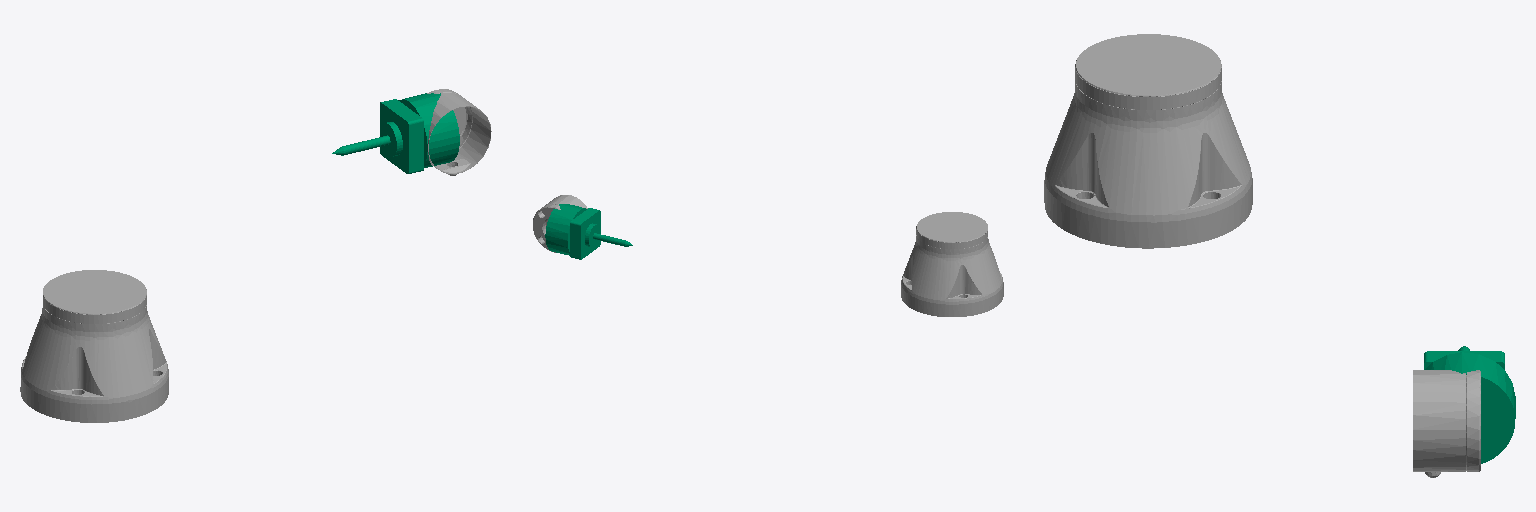
The robot description file, URDF, robot "ur3_with_measurement_tool":
<?xml version="1.0" ?>
<!-- =================================================================================== -->
<!-- |    This document was autogenerated by xacro from ur3_with_measurement_tool.xacro | -->
<!-- |    EDITING THIS FILE BY HAND IS NOT RECOMMENDED                                 | -->
<!-- =================================================================================== -->
<robot name="ur3_with_measurement_tool" xmlns:xacro="http://wiki.ros.org/xacro">
  <!--
  Author: [author]
-->
  <!-- measured from model -->
  <link name="base_link">
    <visual>
      <geometry>
        <mesh filename="package://ur_description/meshes/ur3/visual/base.obj"/>
      </geometry>
      <material name="LightGrey">
        <color rgba="0.7 0.7 0.7 1.0"/>
      </material>
    </visual>
    <collision>
      <geometry>
        <mesh filename="package://ur_description/meshes/ur3/collision/base.stl"/>
      </geometry>
    </collision>
    <inertial>
      <mass value="2.0"/>
      <origin rpy="0 0 0" xyz="0.0 0.0 0.0"/>
      <inertia ixx="0.0030531654454" ixy="0.0" ixz="0.0" iyy="0.0030531654454" iyz="0.0" izz="0.005625"/>
    </inertial>
  </link>
  <joint name="shoulder_pan_joint" type="revolute">
    <parent link="base_link"/>
    <child link="shoulder_link"/>
    <origin rpy="0.0 0.0 0.0" xyz="0.0 0.0 0.1519"/>
    <axis xyz="0 0 1"/>
    <limit effort="330.0" lower="-3.14159265359" upper="3.14159265359" velocity="2.16"/>
    <dynamics damping="0.0" friction="0.0"/>
  </joint>
  <link name="shoulder_link">
    <visual>
      <geometry>
        <mesh filename="package://ur_description/meshes/ur3/visual/shoulder.obj"/>
      </geometry>
      <material name="LightGrey">
        <color rgba="0.7 0.7 0.7 1.0"/>
      </material>
    </visual>
    <collision>
      <geometry>
        <mesh filename="package://ur_description/meshes/ur3/collision/shoulder.stl"/>
      </geometry>
    </collision>
    <inertial>
      <mass value="2.0"/>
      <origin rpy="0 0 0" xyz="0.0 0.0 0.0"/>
      <inertia ixx="0.0080931634294" ixy="0.0" ixz="0.0" iyy="0.0080931634294" iyz="0.0" izz="0.005625"/>
    </inertial>
  </link>
  <joint name="shoulder_lift_joint" type="revolute">
    <parent link="shoulder_link"/>
    <child link="upper_arm_link"/>
    <origin rpy="0.0 1.57079632679 0.0" xyz="0.0 0.1198 0.0"/>
    <axis xyz="0 1 0"/>
    <limit effort="330.0" lower="-3.14159265359" upper="3.14159265359" velocity="2.16"/>
    <dynamics damping="0.0" friction="0.0"/>
  </joint>
  <link name="upper_arm_link">
    <visual>
      <geometry>
        <mesh filename="package://ur_description/meshes/ur3/visual/upperarm.obj"/>
      </geometry>
      <material name="LightGrey">
        <color rgba="0.7 0.7 0.7 1.0"/>
      </material>
    </visual>
    <collision>
      <geometry>
        <mesh filename="package://ur_description/meshes/ur3/collision/upperarm.stl"/>
      </geometry>
    </collision>
    <inertial>
      <mass value="3.42"/>
      <origin rpy="0 0 0" xyz="0.0 0.0 0.121825"/>
      <inertia ixx="0.0217284832211" ixy="0.0" ixz="0.0" iyy="0.0217284832211" iyz="0.0" izz="0.00961875"/>
    </inertial>
  </link>
  <joint name="elbow_joint" type="revolute">
    <parent link="upper_arm_link"/>
    <child link="forearm_link"/>
    <origin rpy="0.0 0.0 0.0" xyz="0.0 -0.0925 0.24365"/>
    <axis xyz="0 1 0"/>
    <limit effort="150.0" lower="-3.14159265359" upper="3.14159265359" velocity="3.15"/>
    <dynamics damping="0.0" friction="0.0"/>
  </joint>
  <link name="forearm_link">
    <visual>
      <geometry>
        <mesh filename="package://ur_description/meshes/ur3/visual/forearm.obj"/>
      </geometry>
      <material name="LightGrey">
        <color rgba="0.7 0.7 0.7 1.0"/>
      </material>
    </visual>
    <collision>
      <geometry>
        <mesh filename="package://ur_description/meshes/ur3/collision/forearm.stl"/>
      </geometry>
    </collision>
    <inertial>
      <mass value="1.26"/>
      <origin rpy="0 0 0" xyz="0.0 0.0 0.106625"/>
      <inertia ixx="0.00654680644378" ixy="0.0" ixz="0.0" iyy="0.00654680644378" iyz="0.0" izz="0.00354375"/>
    </inertial>
  </link>
  <joint name="wrist_1_joint" type="revolute">
    <parent link="forearm_link"/>
    <child link="wrist_1_link"/>
    <origin rpy="0.0 1.57079632679 0.0" xyz="0.0 0.0 0.21325"/>
    <axis xyz="0 1 0"/>
    <limit effort="54.0" lower="-3.14159265359" upper="3.14159265359" velocity="3.2"/>
    <dynamics damping="0.0" friction="0.0"/>
  </joint>
  <link name="wrist_1_link">
    <visual>
      <geometry>
        <mesh filename="package://ur_description/meshes/ur3/visual/wrist1.obj"/>
      </geometry>
      <material name="LightGrey">
        <color rgba="0.7 0.7 0.7 1.0"/>
      </material>
    </visual>
    <collision>
      <geometry>
        <mesh filename="package://ur_description/meshes/ur3/collision/wrist1.stl"/>
      </geometry>
    </collision>
    <inertial>
      <mass value="0.8"/>
      <origin rpy="0 0 0" xyz="0.0 0.0 0.0"/>
      <inertia ixx="0.002084999166" ixy="0.0" ixz="0.0" iyy="0.002084999166" iyz="0.0" izz="0.00225"/>
    </inertial>
  </link>
  <joint name="wrist_2_joint" type="revolute">
    <parent link="wrist_1_link"/>
    <child link="wrist_2_link"/>
    <origin rpy="0.0 0.0 0.0" xyz="0.0 0.08505 0.0"/>
    <axis xyz="0 0 1"/>
    <limit effort="54.0" lower="-3.14159265359" upper="3.14159265359" velocity="3.2"/>
    <dynamics damping="0.0" friction="0.0"/>
  </joint>
  <link name="wrist_2_link">
    <visual>
      <geometry>
        <mesh filename="package://ur_description/meshes/ur3/visual/wrist2.obj"/>
      </geometry>
      <material name="LightGrey">
        <color rgba="0.7 0.7 0.7 1.0"/>
      </material>
    </visual>
    <collision>
      <geometry>
        <mesh filename="package://ur_description/meshes/ur3/collision/wrist2.stl"/>
      </geometry>
    </collision>
    <inertial>
      <mass value="0.8"/>
      <origin rpy="0 0 0" xyz="0.0 0.0 0.0"/>
      <inertia ixx="0.002084999166" ixy="0.0" ixz="0.0" iyy="0.002084999166" iyz="0.0" izz="0.00225"/>
    </inertial>
  </link>
  <joint name="wrist_3_joint" type="revolute">
    <parent link="wrist_2_link"/>
    <child link="wrist_3_link"/>
    <origin rpy="0.0 0.0 0.0" xyz="0.0 0.0 0.08535"/>
    <axis xyz="0 1 0"/>
    <limit effort="54.0" lower="-3.14159265359" upper="3.14159265359" velocity="3.2"/>
    <dynamics damping="0.0" friction="0.0"/>
  </joint>
  <link name="wrist_3_link">
    <visual>
      <geometry>
        <mesh filename="package://ur_description/meshes/ur3/visual/wrist3.obj"/>
      </geometry>
      <material name="LightGrey">
        <color rgba="0.7 0.7 0.7 1.0"/>
      </material>
    </visual>
    <collision>
      <geometry>
        <mesh filename="package://ur_description/meshes/ur3/collision/wrist3.stl"/>
      </geometry>
    </collision>
    <inertial>
      <mass value="0.35"/>
      <origin rpy="0 0 0" xyz="0.0 0.0 0.0"/>
      <inertia ixx="0.000912187135125" ixy="0.0" ixz="0.0" iyy="0.000912187135125" iyz="0.0" izz="0.000984375"/>
    </inertial>
  </link>
  <joint name="ee_fixed_joint" type="fixed">
    <parent link="wrist_3_link"/>
    <child link="ee_link"/>
    <origin rpy="0.0 0.0 1.57079632679" xyz="0.0 0.0819 0.0"/>
  </joint>
  <link name="ee_link">
    <collision>
      <geometry>
        <box size="0.01 0.01 0.01"/>
      </geometry>
      <origin rpy="0 0 0" xyz="-0.01 0 0"/>
    </collision>
  </link>
  <transmission name="shoulder_pan_trans">
    <type>transmission_interface/SimpleTransmission</type>
    <joint name="shoulder_pan_joint">
      <hardwareInterface>hardware_interface/PositionJointInterface</hardwareInterface>
    </joint>
    <actuator name="shoulder_pan_motor">
      <mechanicalReduction>1</mechanicalReduction>
    </actuator>
  </transmission>
  <transmission name="shoulder_lift_trans">
    <type>transmission_interface/SimpleTransmission</type>
    <joint name="shoulder_lift_joint">
      <hardwareInterface>hardware_interface/PositionJointInterface</hardwareInterface>
    </joint>
    <actuator name="shoulder_lift_motor">
      <mechanicalReduction>1</mechanicalReduction>
    </actuator>
  </transmission>
  <transmission name="elbow_trans">
    <type>transmission_interface/SimpleTransmission</type>
    <joint name="elbow_joint">
      <hardwareInterface>hardware_interface/PositionJointInterface</hardwareInterface>
    </joint>
    <actuator name="elbow_motor">
      <mechanicalReduction>1</mechanicalReduction>
    </actuator>
  </transmission>
  <transmission name="wrist_1_trans">
    <type>transmission_interface/SimpleTransmission</type>
    <joint name="wrist_1_joint">
      <hardwareInterface>hardware_interface/PositionJointInterface</hardwareInterface>
    </joint>
    <actuator name="wrist_1_motor">
      <mechanicalReduction>1</mechanicalReduction>
    </actuator>
  </transmission>
  <transmission name="wrist_2_trans">
    <type>transmission_interface/SimpleTransmission</type>
    <joint name="wrist_2_joint">
      <hardwareInterface>hardware_interface/PositionJointInterface</hardwareInterface>
    </joint>
    <actuator name="wrist_2_motor">
      <mechanicalReduction>1</mechanicalReduction>
    </actuator>
  </transmission>
  <transmission name="wrist_3_trans">
    <type>transmission_interface/SimpleTransmission</type>
    <joint name="wrist_3_joint">
      <hardwareInterface>hardware_interface/PositionJointInterface</hardwareInterface>
    </joint>
    <actuator name="wrist_3_motor">
      <mechanicalReduction>1</mechanicalReduction>
    </actuator>
  </transmission>
  <gazebo reference="shoulder_link">
    <selfCollide>true</selfCollide>
  </gazebo>
  <gazebo reference="upper_arm_link">
    <selfCollide>true</selfCollide>
  </gazebo>
  <gazebo reference="forearm_link">
    <selfCollide>true</selfCollide>
  </gazebo>
  <gazebo reference="wrist_1_link">
    <selfCollide>true</selfCollide>
  </gazebo>
  <gazebo reference="wrist_3_link">
    <selfCollide>true</selfCollide>
  </gazebo>
  <gazebo reference="wrist_2_link">
    <selfCollide>true</selfCollide>
  </gazebo>
  <gazebo reference="ee_link">
    <selfCollide>true</selfCollide>
  </gazebo>
  <!-- ROS base_link to UR 'Base' Coordinates transform -->
  <link name="base"/>
  <joint name="base_link-base_fixed_joint" type="fixed">
    <!-- NOTE: this rotation is only needed as long as base_link itself is
                 not corrected wrt the real robot (ie: rotated over 180
                 degrees)
      -->
    <origin rpy="0 0 -3.14159265359" xyz="0 0 0"/>
    <parent link="base_link"/>
    <child link="base"/>
  </joint>
  <!-- Frame coincident with all-zeros TCP on UR controller -->
  <link name="tool0"/>
  <joint name="wrist_3_link-tool0_fixed_joint" type="fixed">
    <origin rpy="-1.57079632679 0 0" xyz="0 0.0819 0"/>
    <parent link="wrist_3_link"/>
    <child link="tool0"/>
  </joint>
  <!-- Create a fixed joint with a parameterized name. -->
  <joint name="measurement_tool_joint" type="fixed">
    <!-- The parent link must be read from the robot model it is attached to. -->
    <parent link="tool0"/>
    <child link="measurement_tool"/>
    <!-- The tool is directly attached to the flange. -->
    <origin rpy="0 0 0" xyz="0 0 0"/>
  </joint>
  <link name="measurement_tool">
    <visual>
      <geometry>
        <!-- The path to the visual meshes in the package. -->
        <mesh filename="package://ur_end_effectors/meshes/visual/measurement_tool.stl"/>
      </geometry>
    </visual>
    <collision>
      <geometry>
        <!-- The path to the collision meshes in the package. -->
        <mesh filename="package://ur_end_effectors/meshes/collision/measurement_tool.stl"/>
      </geometry>
    </collision>
  </link>
  <!-- TCP frame -->
  <joint name="tcp_joint" type="fixed">
    <origin rpy="0 0 0" xyz="0 0 0.116"/>
    <parent link="measurement_tool"/>
    <child link="tcp"/>
  </joint>
  <link name="tcp"/>
  <!-- define the ur5's position and orientation in the world coordinate system -->
  <link name="world"/>
  <joint name="world_joint" type="fixed">
    <parent link="world"/>
    <child link="base_link"/>
    <!-- TODO: check base_link name of robot -->
    <origin rpy="0.0 0.0 0.0" xyz="0.0 0.0 0.0"/>
  </joint>
</robot>

--- What the picture shows (computed from the rendered views, not written in the file) ---
The picture shows the robot from 3 angles, left to right: view 1: azimuth 30°, elevation 25°; view 2: azimuth 150°, elevation 25°; view 3: azimuth 270°, elevation 25°; orthographic projection.
Robot: ur3_with_measurement_tool — 13 links, 12 joints (6 revolute, 6 fixed); root link world; default pose: all joints at 0.
Links seen in each view (by area): view 1: base_link, measurement_tool, wrist_3_link; view 2: base_link, measurement_tool, wrist_3_link; view 3: base_link, wrist_3_link, measurement_tool.
Link boxes in pixels (x1,y1,x2,y2): base_link: (20,270,168,422); measurement_tool: (332,93,459,173); wrist_3_link: (427,89,491,175); base_link: (901,212,1003,316); measurement_tool: (545,204,632,259); wrist_3_link: (533,195,587,252); base_link: (1044,34,1252,248); wrist_3_link: (1413,370,1480,477); measurement_tool: (1424,346,1515,463).
Size in the robot's own frame: 0.5524 by 0.2897 by 0.0982 metres.
3 mesh visuals loaded from 8 distinct referenced files (1 binary STL, 2 OBJ); not drawn: 5 (reference not matched to a file when rendering).